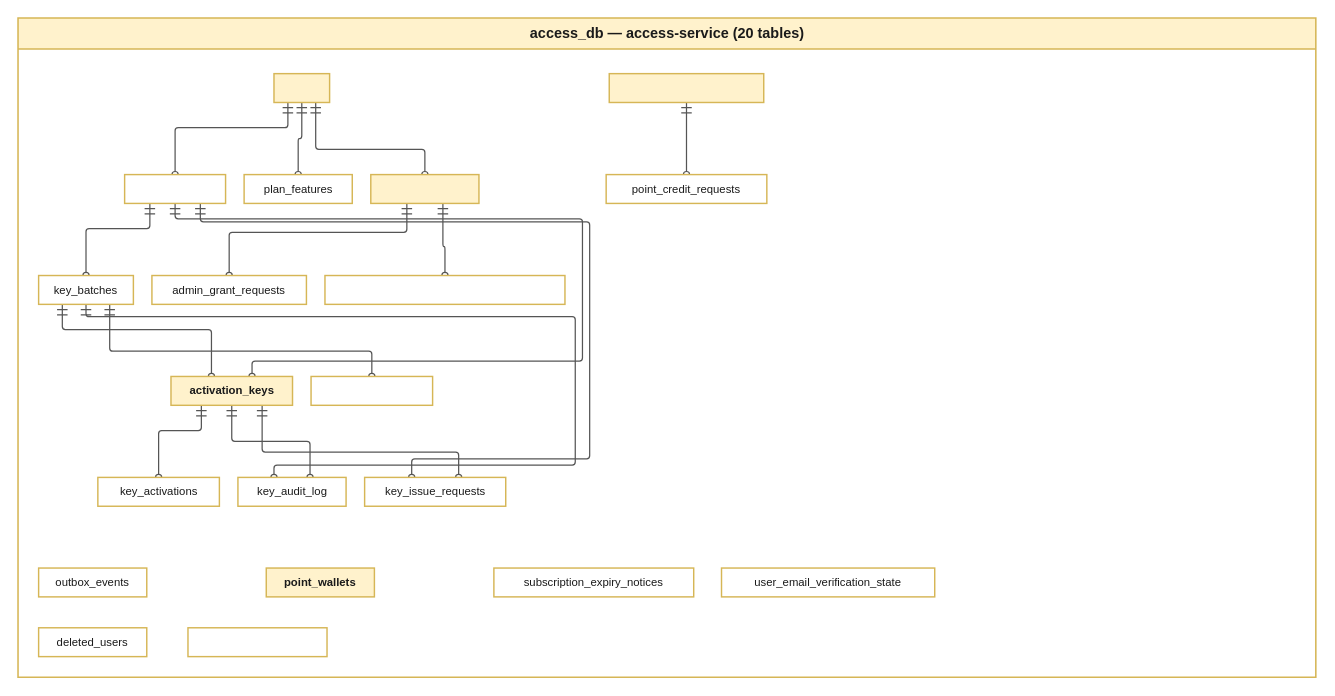
Some shapes in this 1335 by 696 pixel diagram are drawn without their labels. The shapes that lost their labels are listed below. From the top down, each one's centre as x and y in pixels, then its label:
At point 301,87: "plans".
At point 686,87: "point_ledger_entries".
At point 174,188: "key_products".
At point 424,188: "subscriptions".
At point 444,289: "human_grading_credit_consumptions".
At point 371,390: "key_allocations".
At point 257,642: "user_deletion_jobs".
